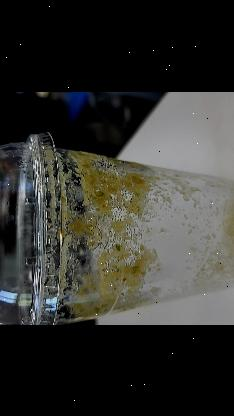Others: (0, 133, 234, 325), (0, 129, 66, 324)
